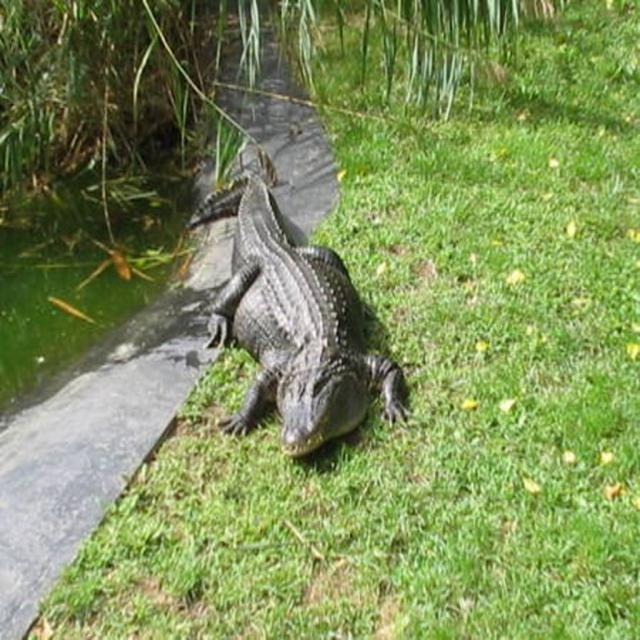crocodile: (187, 160, 414, 450)
